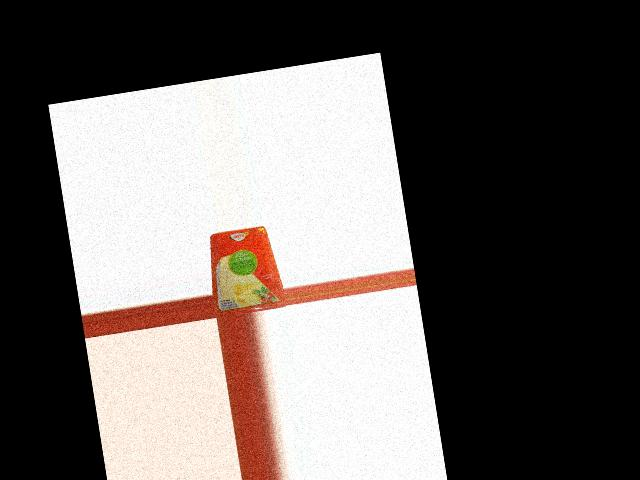cheese: (204, 224, 287, 318)
